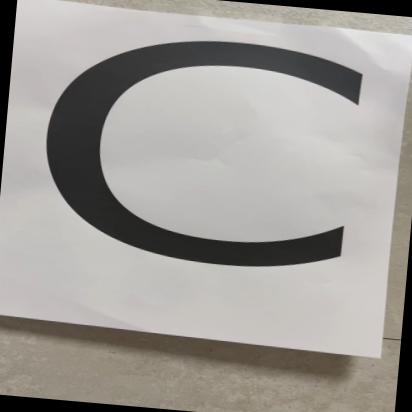seat: (0, 0, 397, 352)
